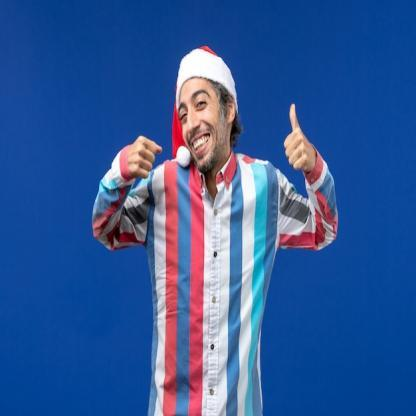thumb_up: (277, 100, 317, 176)
